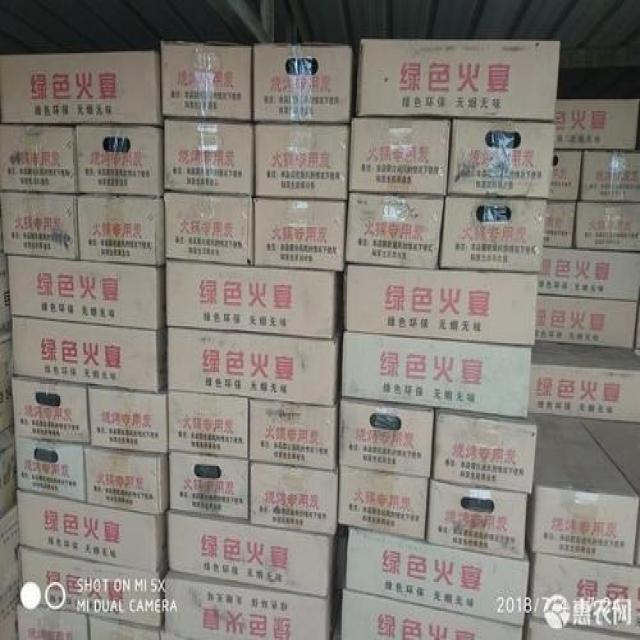box: (344, 529, 530, 626), (526, 415, 640, 567), (340, 331, 536, 418), (357, 39, 561, 121), (342, 263, 539, 345), (168, 514, 337, 597), (166, 259, 343, 338), (168, 326, 342, 406), (0, 49, 165, 126), (164, 570, 340, 640), (6, 254, 168, 329), (17, 492, 168, 572), (17, 548, 168, 628), (12, 316, 168, 393), (526, 541, 640, 635), (340, 589, 524, 640), (530, 341, 640, 423), (433, 410, 536, 495), (253, 41, 357, 123), (425, 480, 529, 560), (440, 196, 548, 273), (448, 121, 554, 198), (348, 118, 452, 196), (346, 191, 445, 270), (339, 398, 435, 478), (255, 123, 351, 200), (161, 41, 252, 121), (164, 116, 255, 196), (338, 466, 430, 541), (164, 191, 255, 266), (255, 198, 347, 271), (248, 398, 340, 469), (250, 464, 339, 536), (76, 125, 164, 196), (77, 195, 165, 266), (83, 444, 169, 515), (168, 389, 251, 461), (539, 244, 640, 300), (12, 374, 91, 445), (0, 125, 78, 195), (536, 294, 637, 348), (0, 191, 79, 259), (90, 386, 169, 454), (169, 452, 248, 519), (579, 418, 640, 497), (15, 439, 86, 502), (554, 99, 640, 150), (524, 611, 640, 640), (572, 203, 640, 251), (581, 150, 640, 203), (15, 606, 88, 640), (0, 507, 18, 638), (549, 150, 582, 201), (88, 618, 161, 640), (0, 427, 17, 517), (544, 201, 577, 247), (0, 251, 13, 345), (0, 340, 13, 432)
